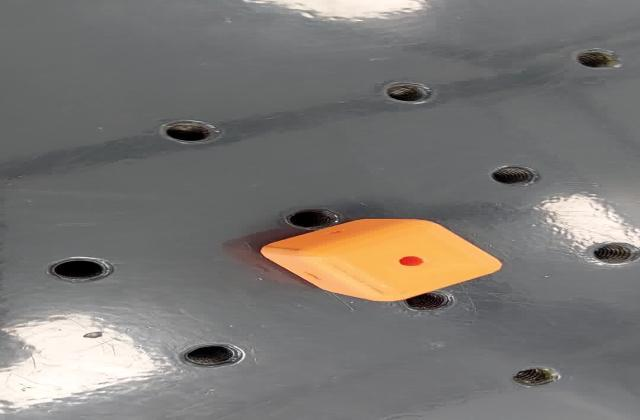cube: (254, 216, 508, 305)
